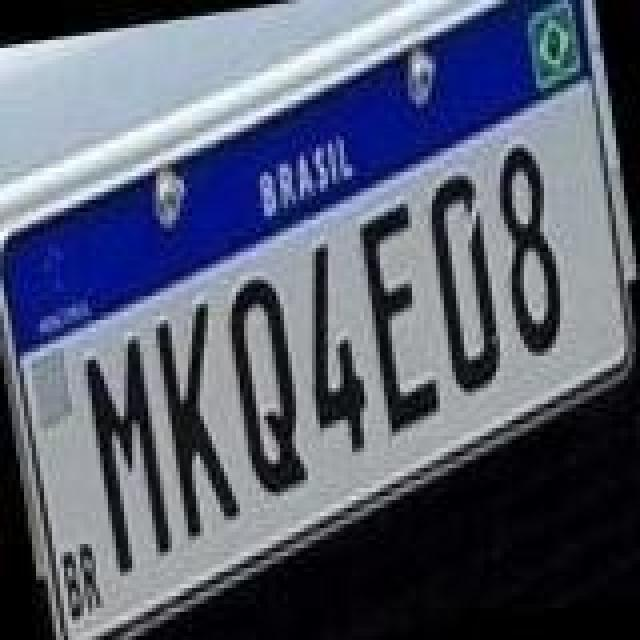4: (290, 240, 374, 456)
8: (484, 138, 572, 358)
D: (418, 170, 510, 398)
E: (354, 202, 446, 438)
K: (150, 298, 242, 542)
M: (80, 334, 176, 578)
Q: (218, 270, 310, 498)
